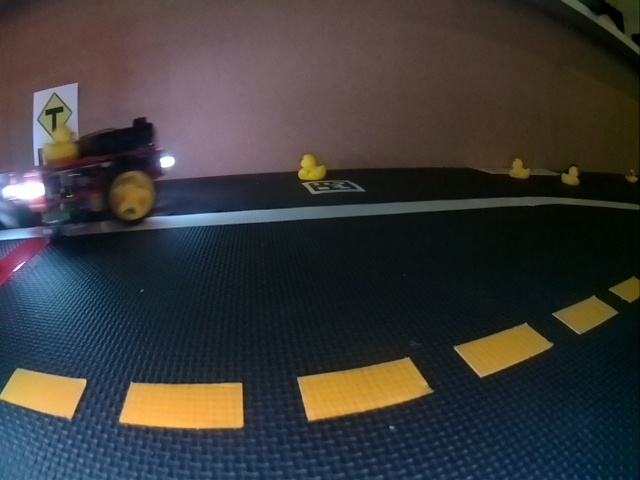Duckie: (42, 127, 77, 161), (298, 154, 325, 180), (509, 159, 529, 178), (563, 169, 578, 185), (627, 170, 638, 182)
Duckiebot: (2, 119, 165, 225)
Intersection sign: (35, 90, 75, 140)
QR code: (303, 180, 364, 194)
